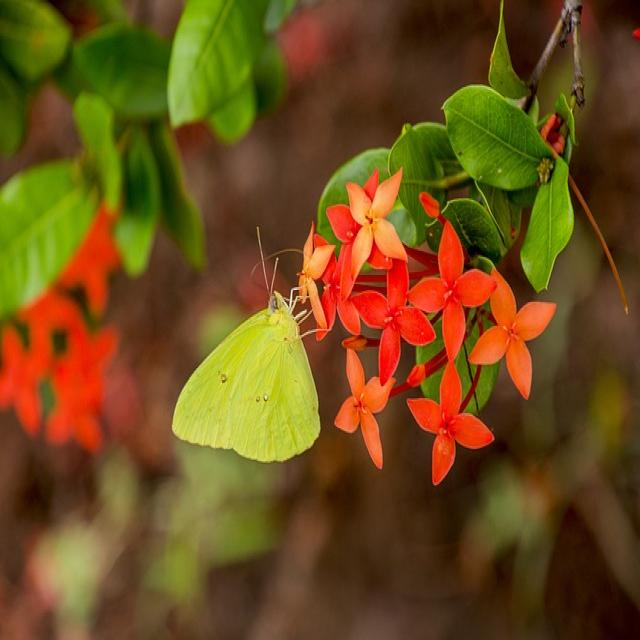butterfly: (170, 287, 322, 464)
